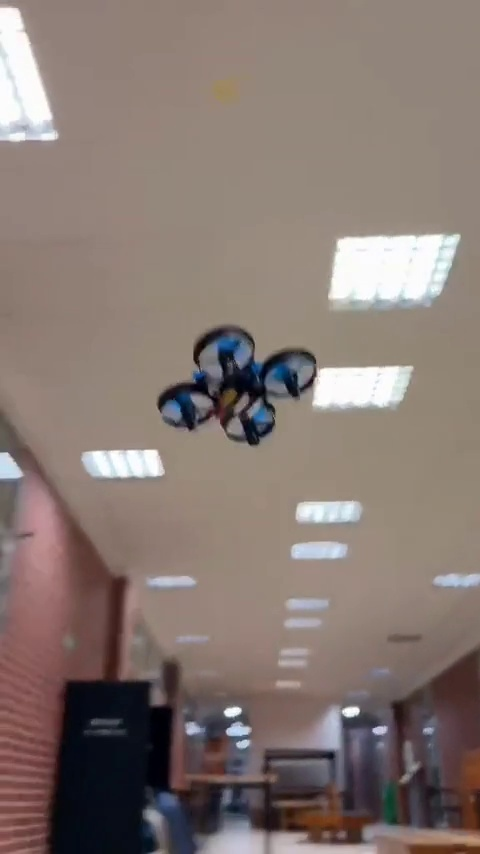drone: (156, 321, 318, 442)
